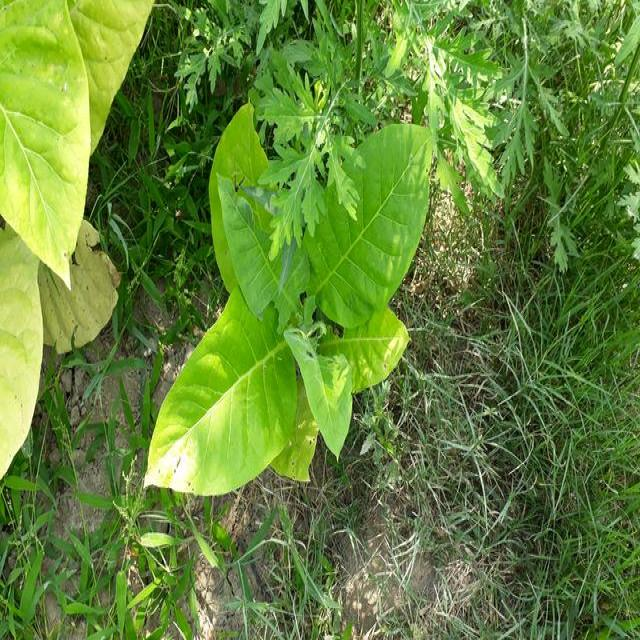crop: (164, 116, 423, 485), (0, 0, 146, 469)
